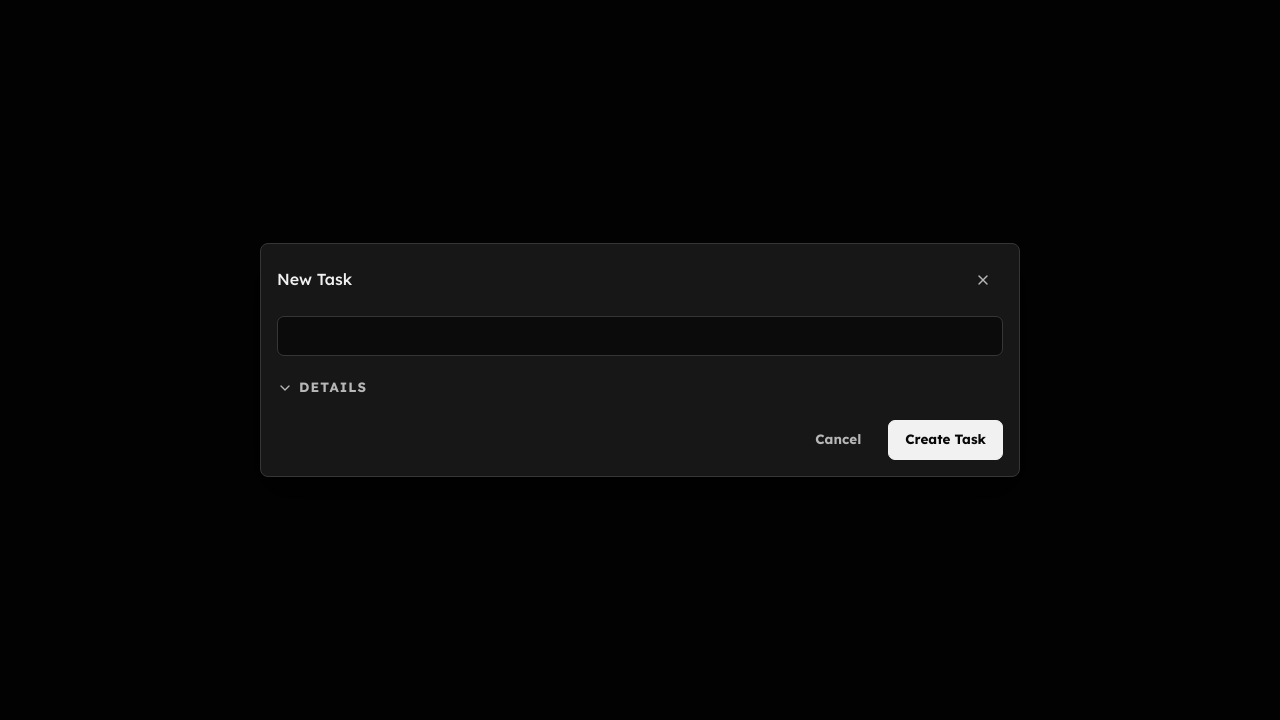
Scenario: TaskEditor › prefills an empty Due Date with the Sydney local date only on focus
Click the button "DETAILS". click: coordinates (322, 388)
box: [277, 368, 367, 408]
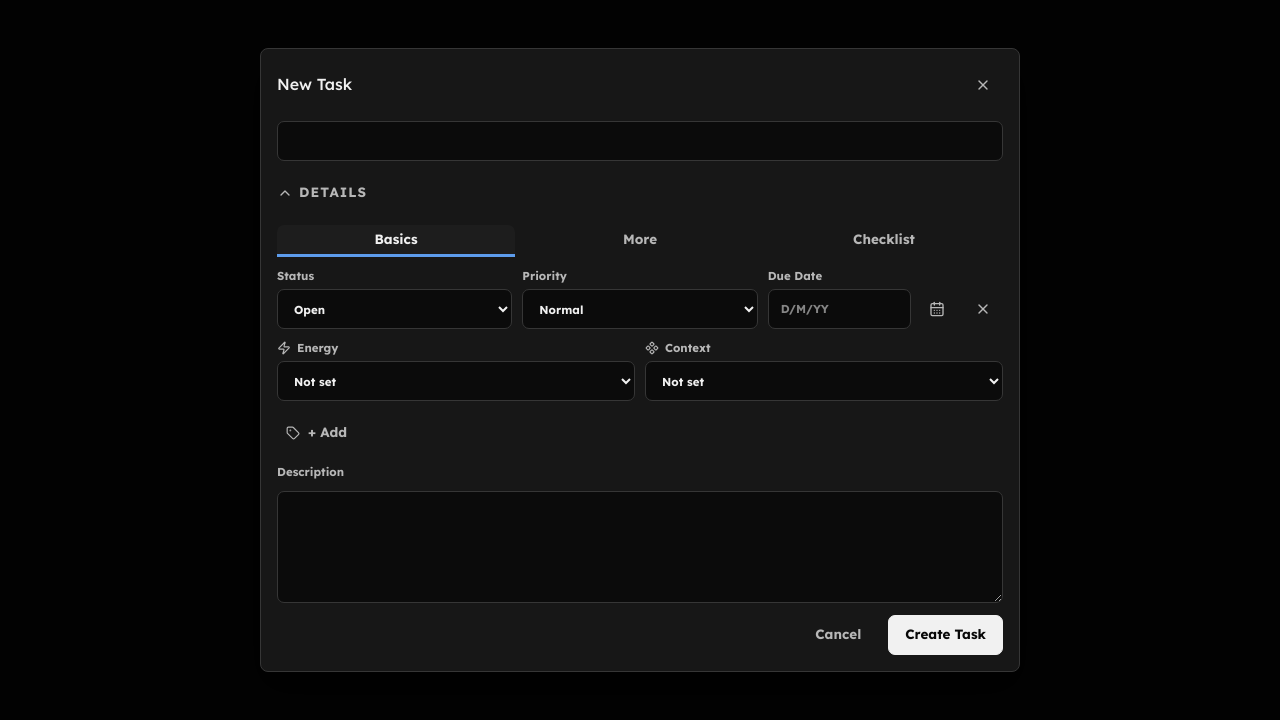
Now the field labelled "Due Date" is empty
Focus the field labelled "Due Date". click: coordinates (839, 309)
box: [768, 289, 911, 329]
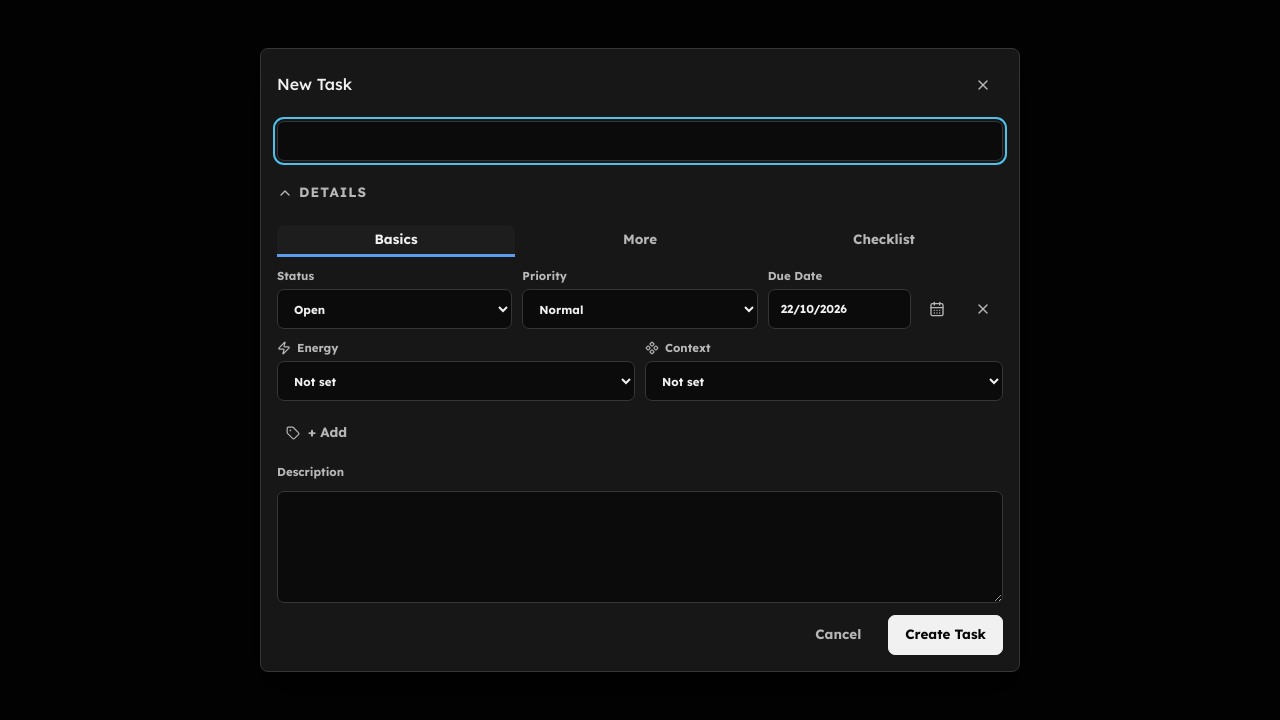
Now the field labelled "Due Date" is not empty, box [768, 289, 911, 329]
